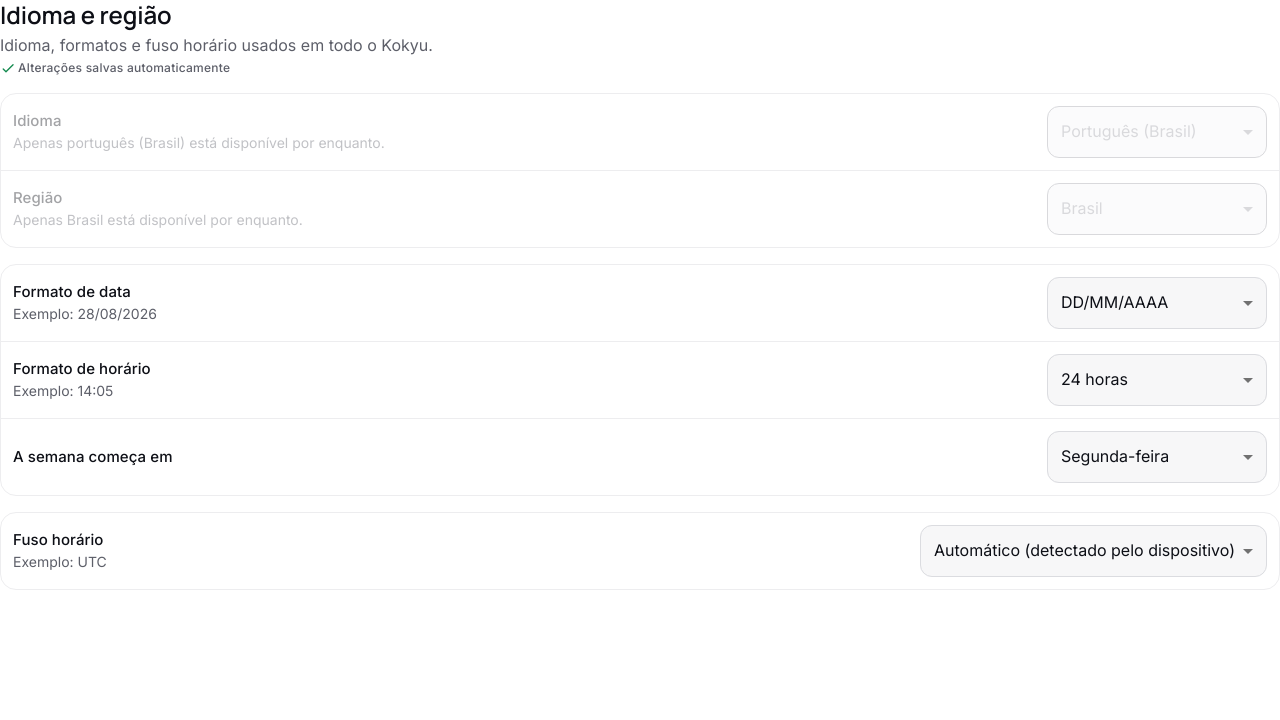
Test case: LocaleSettings › changes "Formato de data"
Click the dropdown named "Formato de data" at [1115, 302], box [1061,292,1168,312]
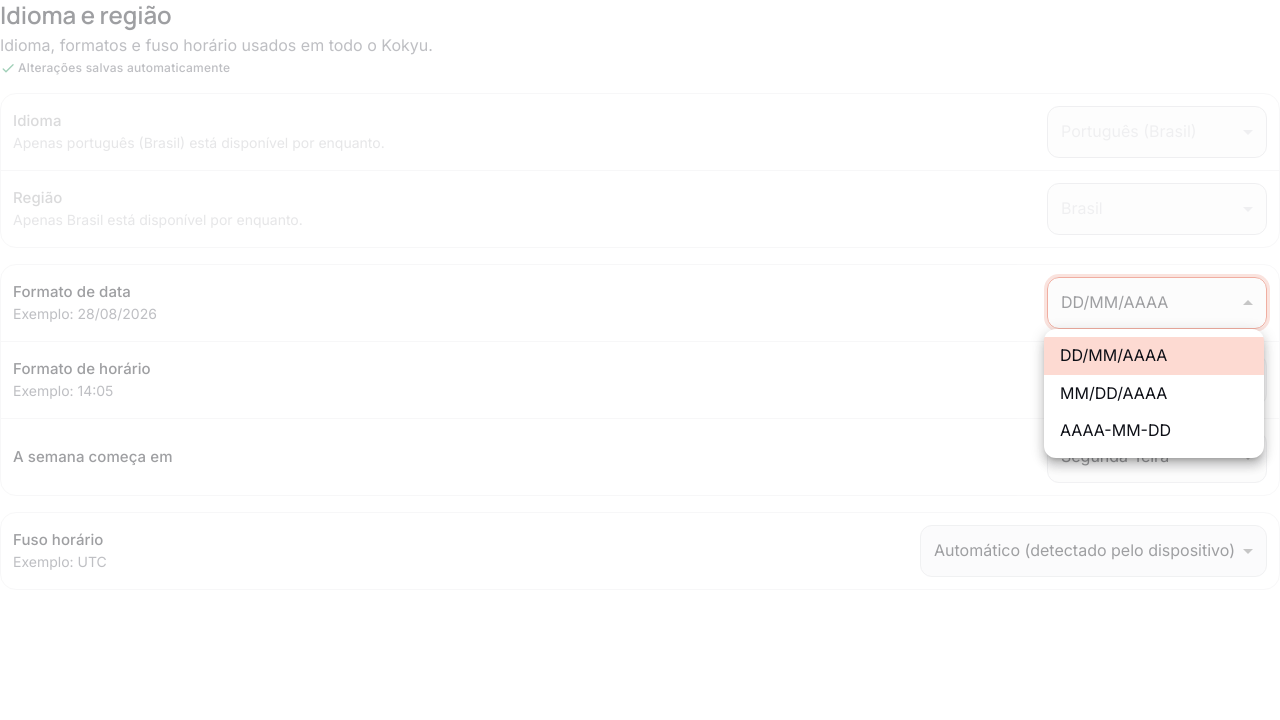
Click the option "AAAA-MM-DD" at [1116, 430], box [1060,420,1171,440]
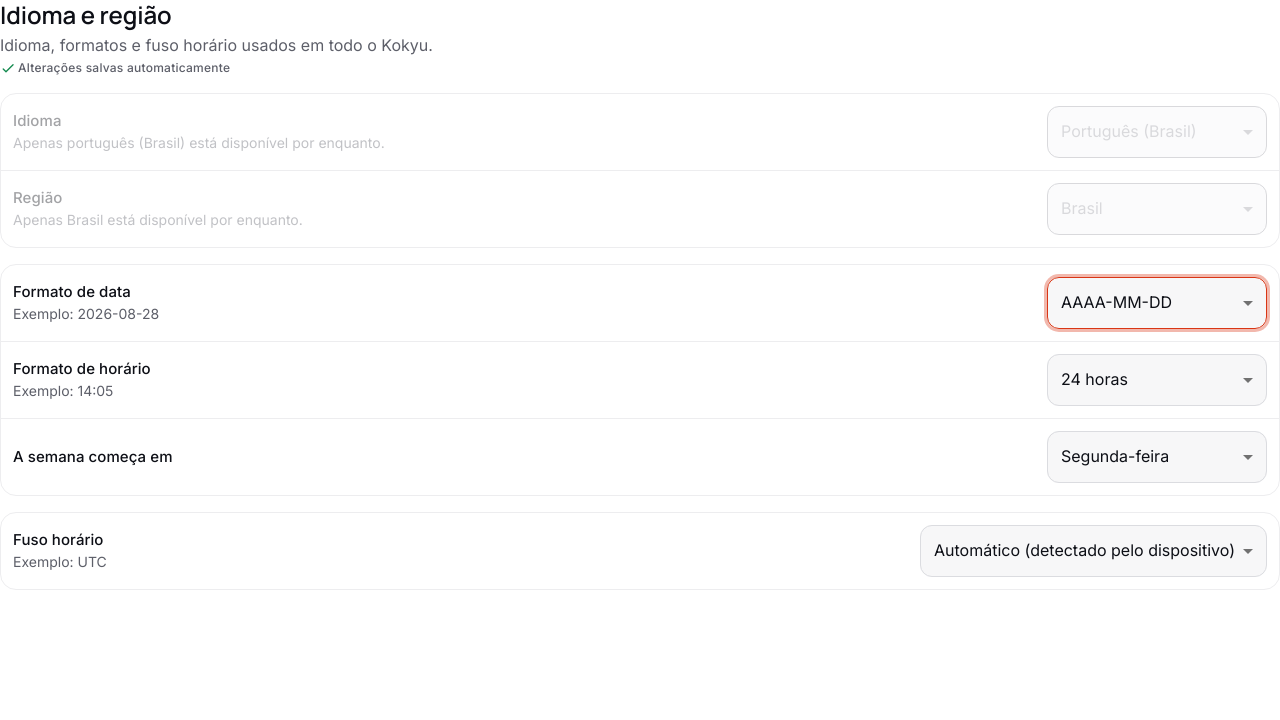
Expected: the dropdown named "Formato de data" reads "AAAA-MM-DD", [1061,292,1172,312]
